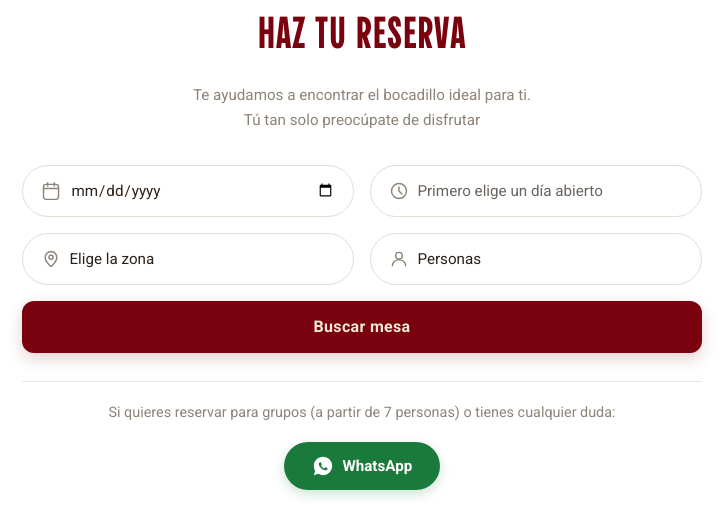
Test: Reservas page › selecting an open date enables the time selector
Type "2030-06-05" into the date field with id "res-date" at (202, 191), box [69,181,335,201]
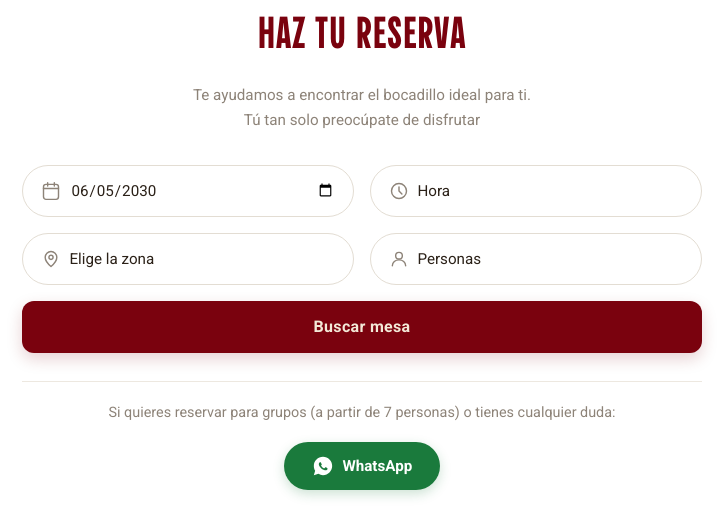
Now the dropdown with id "res-time" is enabled, box [417,182,683,200]
